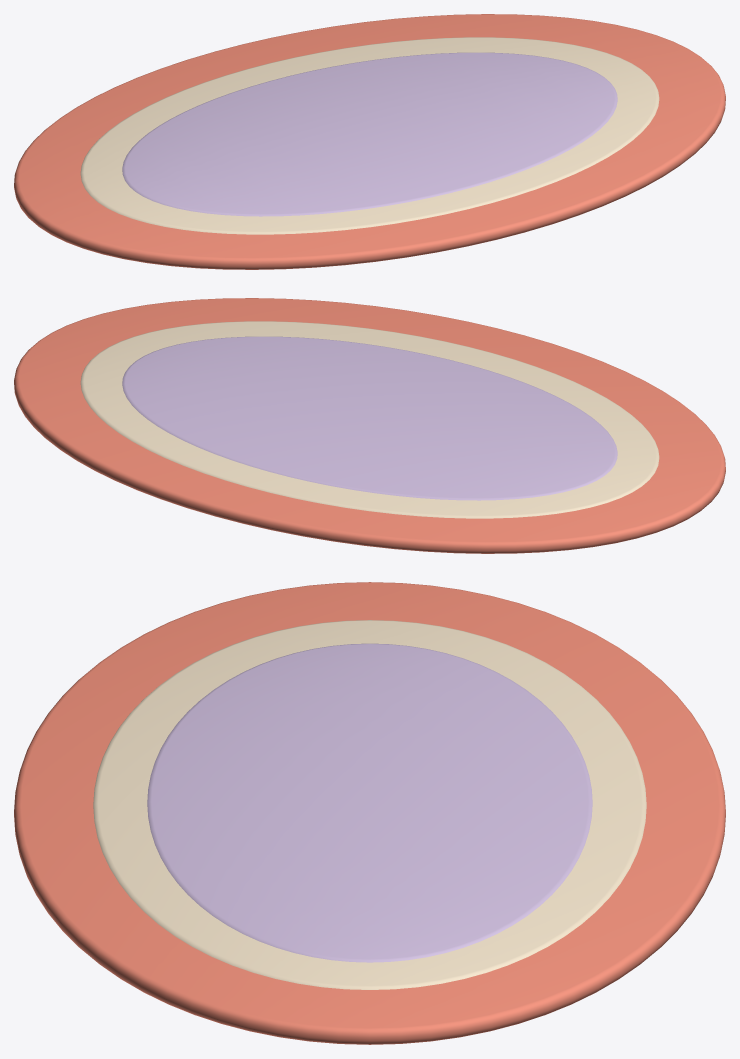
File: rug_b.glb
The picture shows the model from 3 angles, top to bottom: view 1: azimuth 30°, elevation 25°; view 2: azimuth 150°, elevation 25°; view 3: azimuth 270°, elevation 25°; orthographic projection. The views are drawn at different scales.
Visible parts, largest first — view 1: body; view 2: body; view 3: body.
Boxes of the visible parts, x1=… form: body: x1=14, y1=14, x2=725, y2=269; body: x1=14, y1=298, x2=725, y2=553; body: x1=14, y1=582, x2=725, y2=1044.
Bounding box in the file's own units: 1.8 × 0.037 × 1.2.
